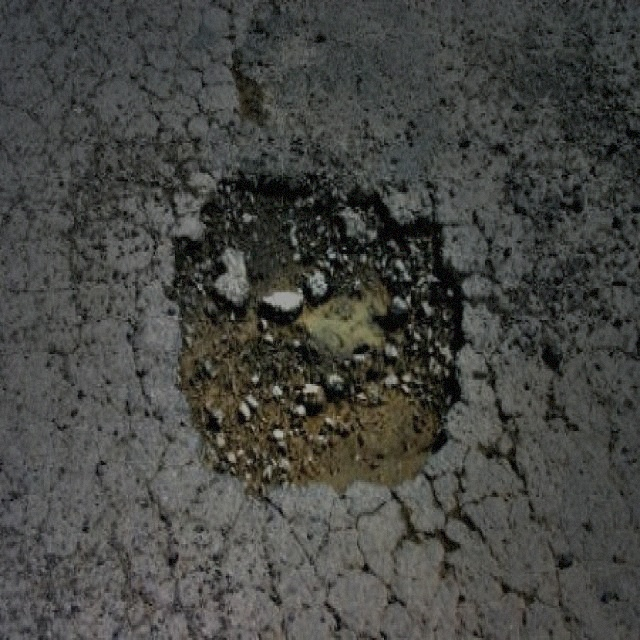pothole: (178, 155, 461, 506)
